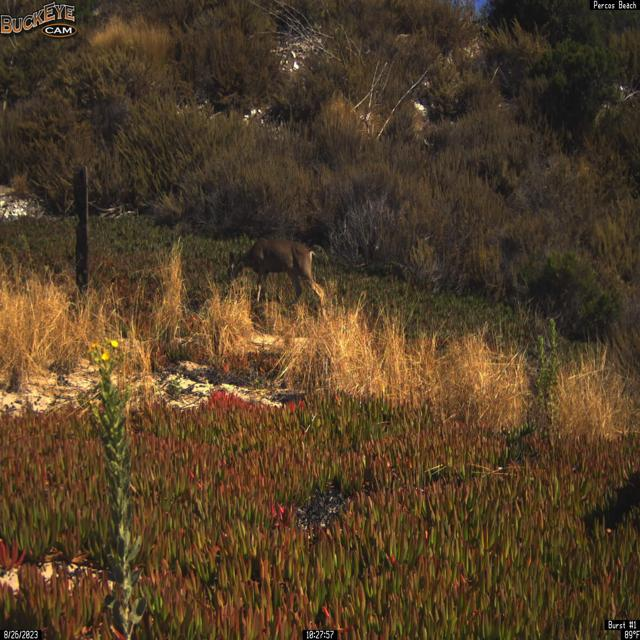deer: (227, 238, 327, 315)
